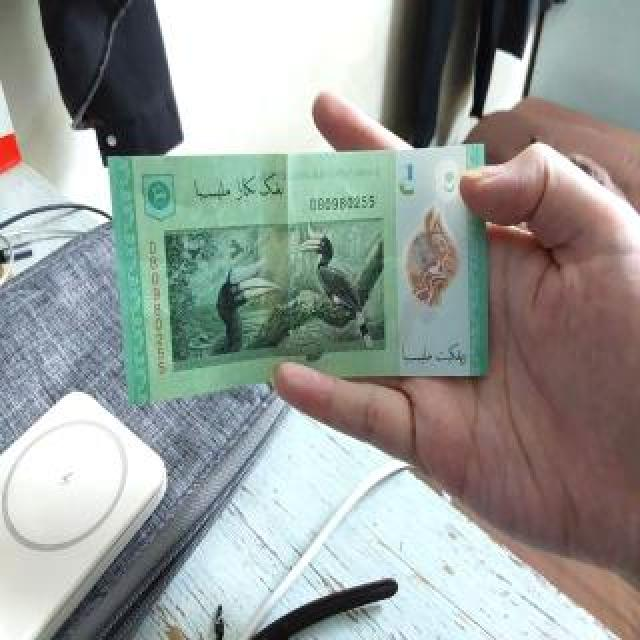5 Ringgit: (112, 150, 493, 381)
